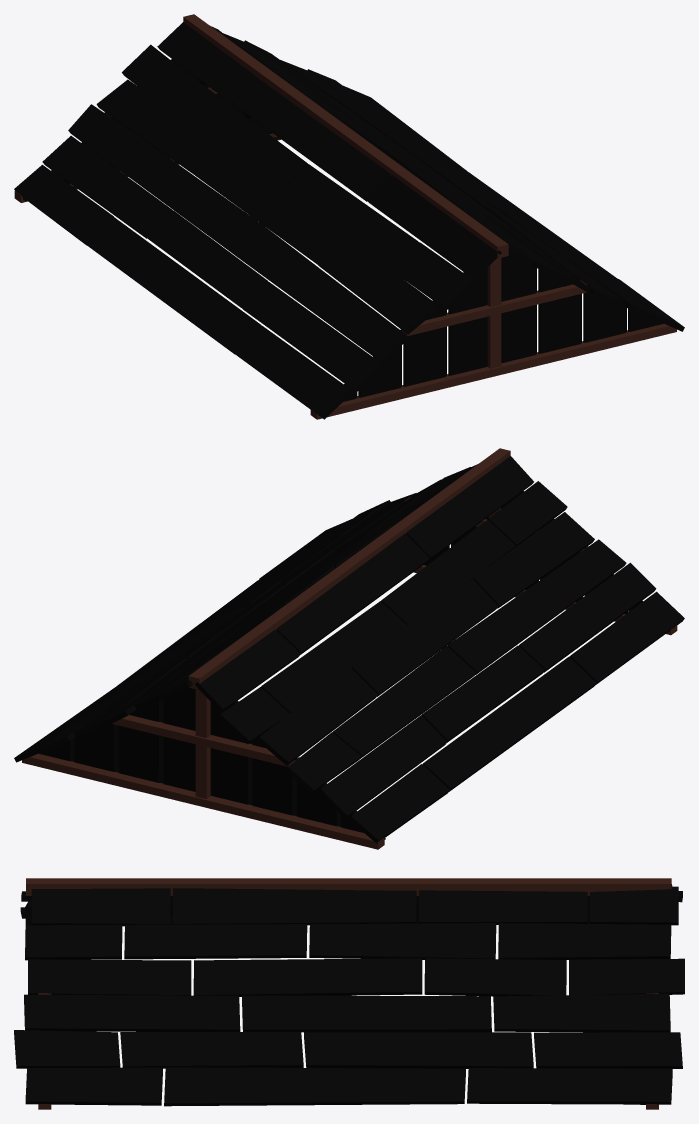
Rendered from standard_wooden_roof_2.FBX.
3 renders of one model, top to bottom at view 1: azimuth 30°, elevation 25°; view 2: azimuth 150°, elevation 25°; view 3: azimuth 270°, elevation 25°, orthographic. The views are drawn at different scales.
Visible parts, largest first — view 1: standard_wooden_roof_2; view 2: standard_wooden_roof_2; view 3: standard_wooden_roof_2.
Boxes of the visible parts, bbox=[...] form: standard_wooden_roof_2: bbox=[14, 14, 684, 419]; standard_wooden_roof_2: bbox=[14, 448, 684, 849]; standard_wooden_roof_2: bbox=[14, 878, 684, 1109].
Size of the model in its own units: 497 by 176 by 773.
